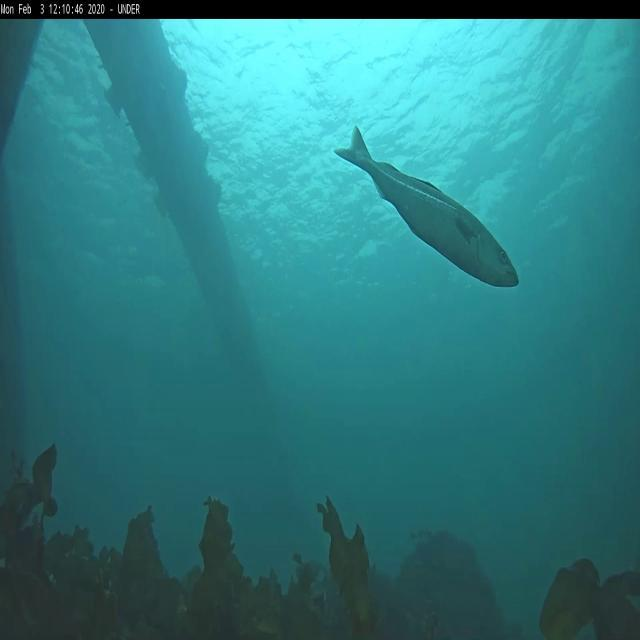fish: (335, 125, 516, 287)
